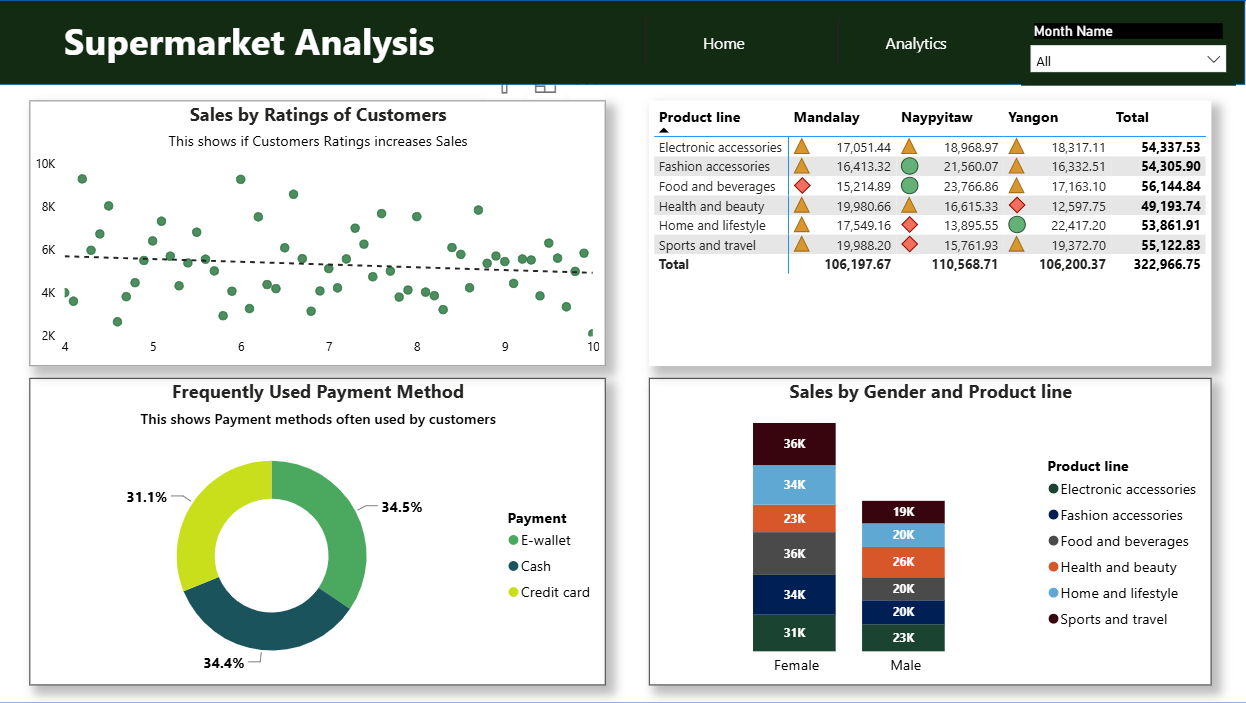

This screenshot's page, from the dashboard's own definition file:
{"tool":"powerbi","page":{"name":"Analytics","canvas":[1280,720],"ordinal":1},"visuals":[{"type":"shape","box":[0,0,1279.7,720.5],"z":0},{"type":"columnChart","title":" Sales by Gender and Product line","fields":{"Category":["Supermarket Analysis.Gender"],"Y":["Sum(Supermarket Analysis.Sales)"],"Series":["Supermarket Analysis.Product line"]},"box":[666.8,387.1,576.1,314.9],"z":1000},{"type":"donutChart","title":"Frequently Used Payment Method","fields":{"Category":["Supermarket Analysis.Payment"],"Y":["CountNonNull(Supermarket Analysis.Sales)"]},"box":[32.3,387.1,589.9,314.9],"z":2000},{"type":"pivotTable","fields":{"Rows":["Supermarket Analysis.Product line"],"Columns":["Supermarket Analysis.City"],"Values":["Sum(Supermarket Analysis.Sales)"]},"box":[666.8,102.9,576.1,271.9],"z":3000},{"type":"scatterChart","title":"Sales by Ratings of Customers","fields":{"X":["Supermarket Analysis.Rating"],"Y":["Sum(Supermarket Analysis.Sales)"]},"box":[32.3,102.9,589.9,271.9],"z":4000},{"type":"shape","box":[0,0,1277.5,86.9],"z":5000,"group":"g1"},{"type":"textbox","box":[29,10.8,456.3,63],"z":6000,"group":"g1"},{"type":"pageNavigator","box":[662,18.4,385.6,49.2],"z":7000,"group":"g1"},{"type":"slicer","fields":{"Values":["Date.Month Name"]},"box":[1047.6,18.4,219.7,69.1],"z":8000,"group":"g1"},{"type":"group","id":"g1","title":"Group 1","box":[0,0,1276.7,87.6],"z":8001}]}

Visuals, with their boxes in screenshot pixels (x1, y1, x2, y2), scaled from the page's 1280x720 canvas onto the 1246x703 screenshot:
shape: rect(0, 0, 1245, 702)
" Sales by Gender and Product line" columnChart: rect(649, 378, 1210, 685)
"Frequently Used Payment Method" donutChart: rect(31, 378, 606, 685)
pivotTable - Supermarket Analysis.Product line x Supermarket Analysis.City: rect(649, 100, 1210, 366)
"Sales by Ratings of Customers" scatterChart: rect(31, 100, 606, 366)
shape: rect(0, 0, 1244, 85)
textbox: rect(28, 11, 472, 72)
pageNavigator: rect(644, 18, 1020, 66)
slicer - Date.Month Name: rect(1020, 18, 1234, 85)
"Group 1" group: rect(0, 0, 1243, 86)
